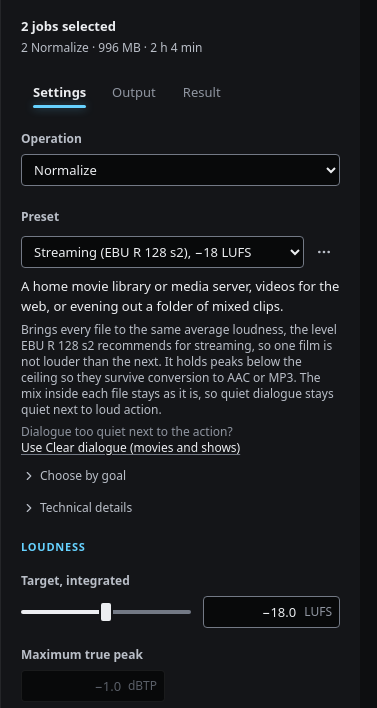
Scenario: InspectorPanel › says Results show for one job when several are selected
The image size is (377, 708).
Expected: the heading "2 jobs selected" is shown, [21, 17, 116, 35]
Click the tab "Result".
click(202, 92)  # box [169, 76, 234, 108]
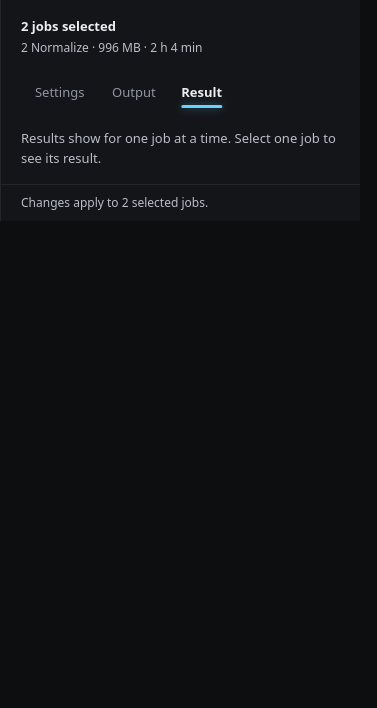
Now the text "Results show for one job at a time. Select one job to see its result." is shown, box [21, 128, 340, 168]
